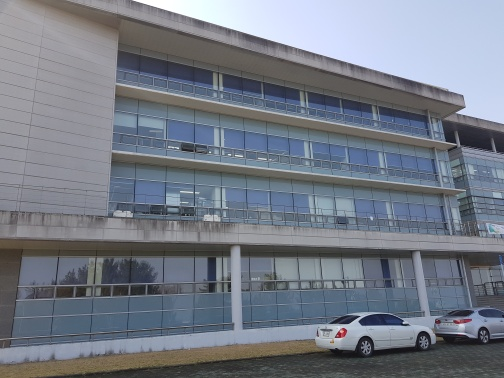Engineering College Building 4: (9, 13, 490, 330), (141, 86, 466, 306)
